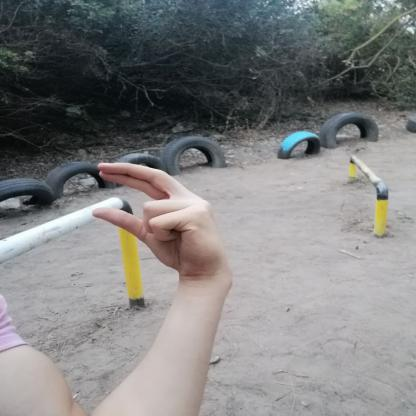DHELL: (77, 152, 238, 284)
